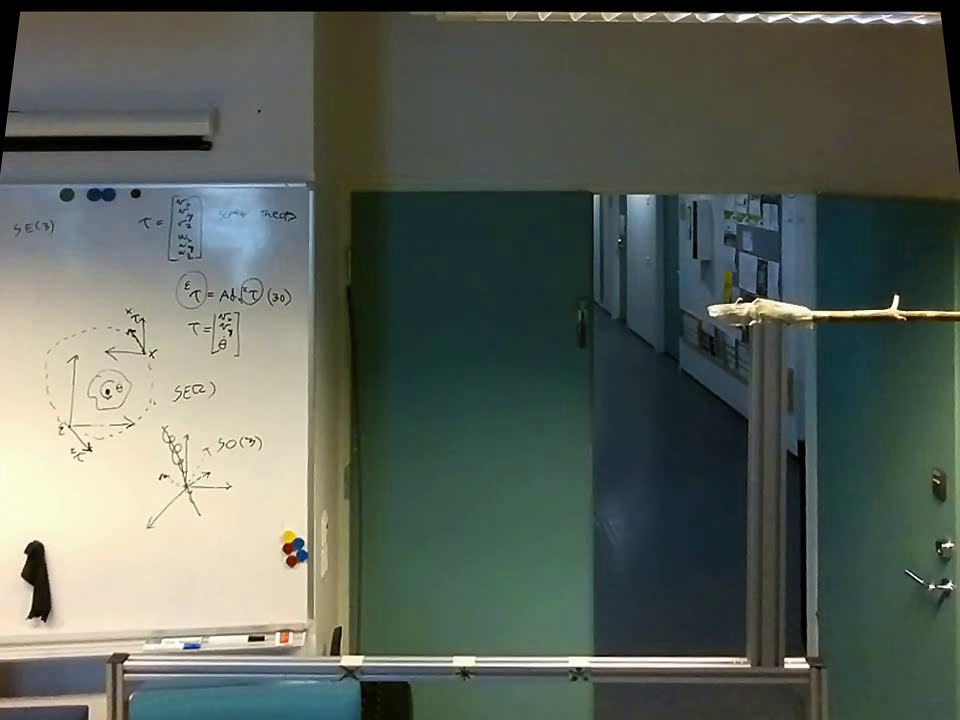aluminum_frame: (123, 645, 803, 690), (3, 615, 323, 672), (741, 325, 793, 661), (3, 173, 328, 203), (302, 190, 324, 624), (798, 654, 832, 717), (101, 655, 133, 717)
branch: (816, 287, 956, 330)
